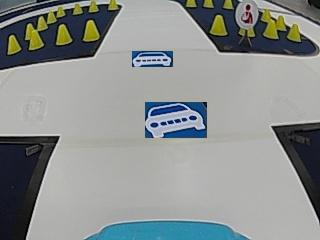cone: (210, 15, 228, 36), (56, 24, 73, 45), (83, 20, 99, 41), (28, 29, 43, 49), (263, 19, 278, 38), (7, 34, 21, 53), (287, 23, 301, 42), (37, 16, 48, 29), (88, 0, 99, 12), (107, 0, 118, 11), (72, 3, 83, 14), (56, 5, 66, 17), (46, 11, 56, 22), (185, 0, 197, 8), (223, 0, 233, 9), (203, 0, 214, 8)
patient: (236, 1, 257, 27)
